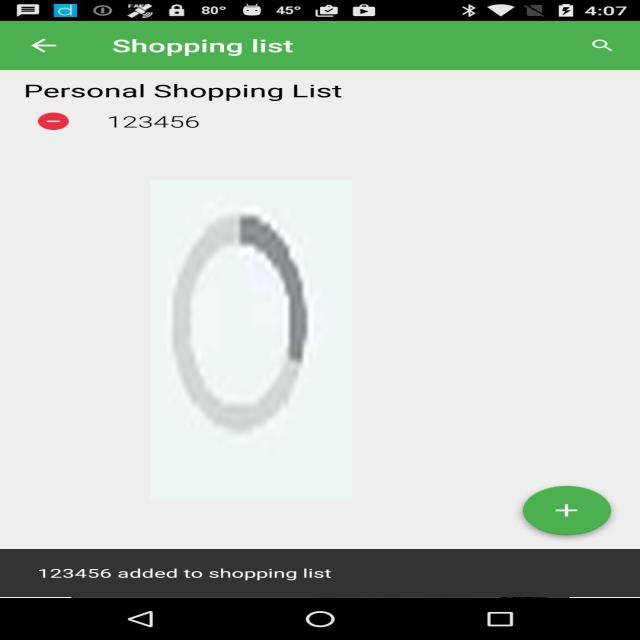misdirection: (151, 180, 352, 499)
